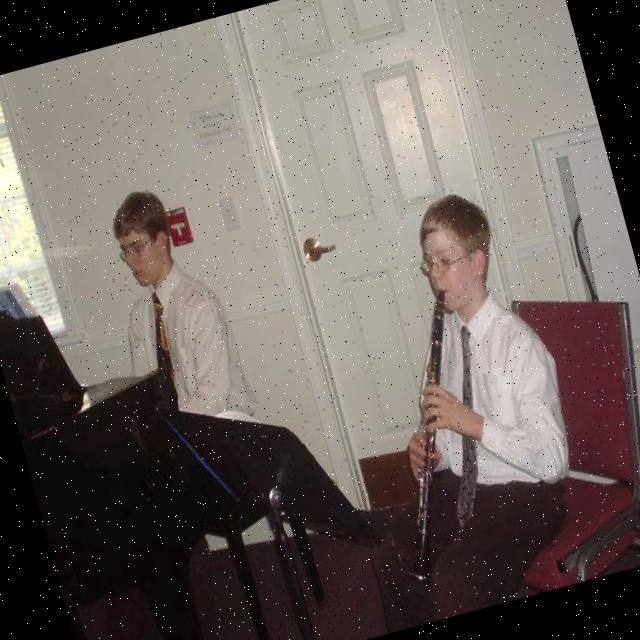clarinet: (336, 287, 518, 594)
